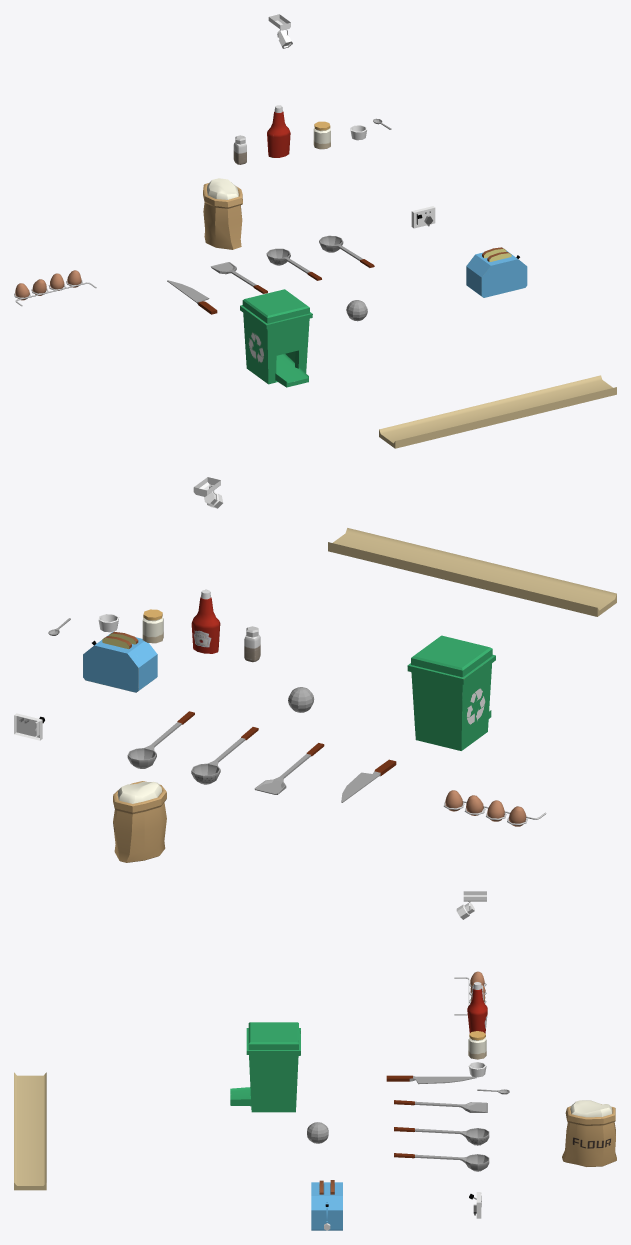
The picture shows the model from 3 angles, top to bottom: view 1: azimuth 30°, elevation 25°; view 2: azimuth 150°, elevation 25°; view 3: azimuth 270°, elevation 25°; orthographic projection. The views are drawn at different scales.
Parts seen in each view (by area): view 1: board, dustbin_body01, flour, toaster01, dustbin_cap01, tomato_sauce, egg_shelf_01; view 2: board, dustbin_body01, flour, toaster01, dustbin_cap01, tomato_sauce, egg_shelf_01, spoon02, spoon01, jar_big, shovel, knife (+4 smaller); view 3: board, dustbin_body01, flour, toaster01, dustbin_cap01, tomato_sauce, spoon01, spoon02, knife, shovel, jar_big, spotlight.
Boxes of the visible parts, x1,y1,x2,y2 form: board: [379, 375, 616, 448]; dustbin_body01: [240, 305, 312, 387]; flour: [203, 178, 242, 249]; toaster01: [466, 250, 527, 297]; dustbin_cap01: [242, 289, 309, 323]; tomato_sauce: [267, 105, 290, 157]; egg_shelf_01: [14, 273, 96, 306]; board: [328, 528, 616, 616]; dustbin_body01: [407, 655, 495, 750]; flour: [113, 781, 166, 862]; toaster01: [83, 631, 157, 692]; dustbin_cap01: [411, 635, 492, 677]; tomato_sauce: [191, 589, 220, 653]; egg_shelf_01: [443, 795, 546, 826]; spoon02: [127, 711, 194, 768]; spoon01: [191, 727, 258, 784]; jar_big: [142, 609, 163, 643]; shovel: [254, 743, 324, 794]; knife: [341, 759, 396, 802]; board: [14, 1072, 46, 1190]; dustbin_body01: [230, 1028, 300, 1112]; flour: [562, 1100, 616, 1166]; toaster01: [311, 1182, 342, 1230]; dustbin_cap01: [248, 1022, 298, 1049]; tomato_sauce: [467, 982, 487, 1033]; spoon01: [394, 1127, 489, 1145]; spoon02: [394, 1153, 489, 1171]; knife: [386, 1075, 476, 1084]; shovel: [394, 1100, 487, 1112]; jar_big: [468, 1031, 486, 1059]; spotlight: [456, 891, 486, 919].
Bounding box in the file's own units: 23.73 × 13.5 × 27.7.
